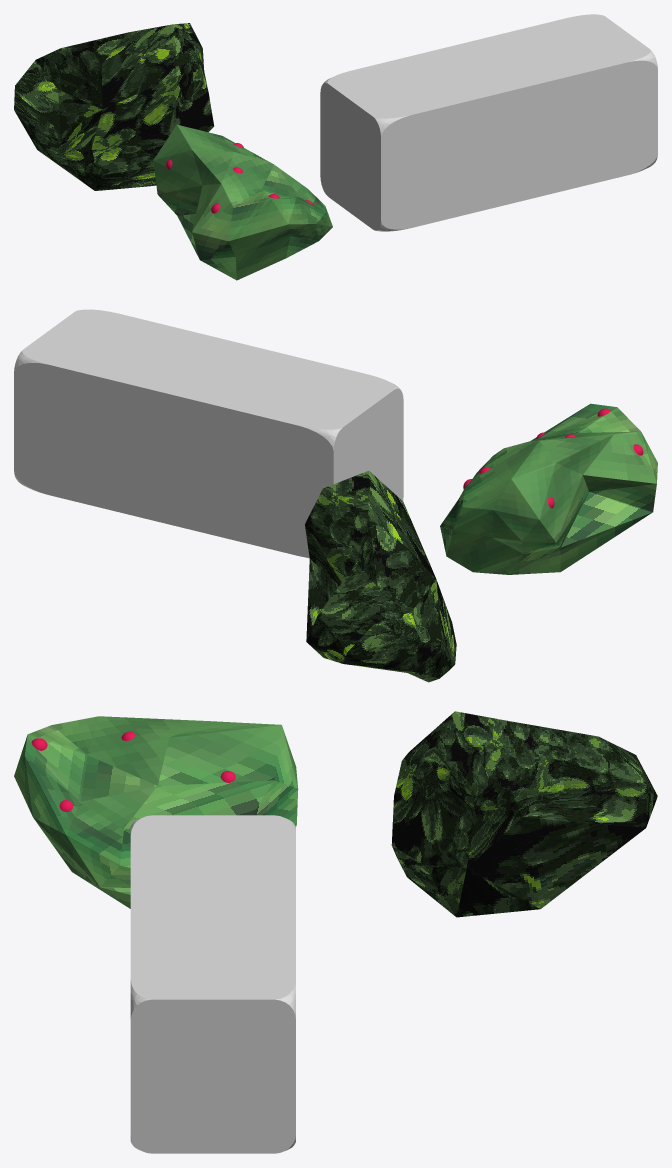
File: bushes.glb
3 views of the same model, one above another, from view 1: azimuth 30°, elevation 25°; view 2: azimuth 150°, elevation 25°; view 3: azimuth 270°, elevation 25° (orthographic). The views are drawn at different scales.
Visible parts, largest first — view 1: Cube, Icosphere.001, Icosphere; view 2: Cube, Icosphere, Icosphere.001; view 3: Cube, Icosphere.001, Icosphere.
Boxes of the visible parts, bbox=[...] form: Cube: bbox=[320, 14, 657, 231]; Icosphere.001: bbox=[14, 23, 214, 190]; Icosphere: bbox=[153, 124, 332, 280]; Cube: bbox=[14, 309, 403, 558]; Icosphere: bbox=[440, 403, 657, 574]; Icosphere.001: bbox=[305, 470, 456, 682]; Cube: bbox=[130, 815, 295, 1153]; Icosphere.001: bbox=[391, 711, 657, 917]; Icosphere: bbox=[14, 716, 298, 908].
Size of the model in its own units: 22.76 by 7.22 by 19.34.
3 materials, 2 textured.
